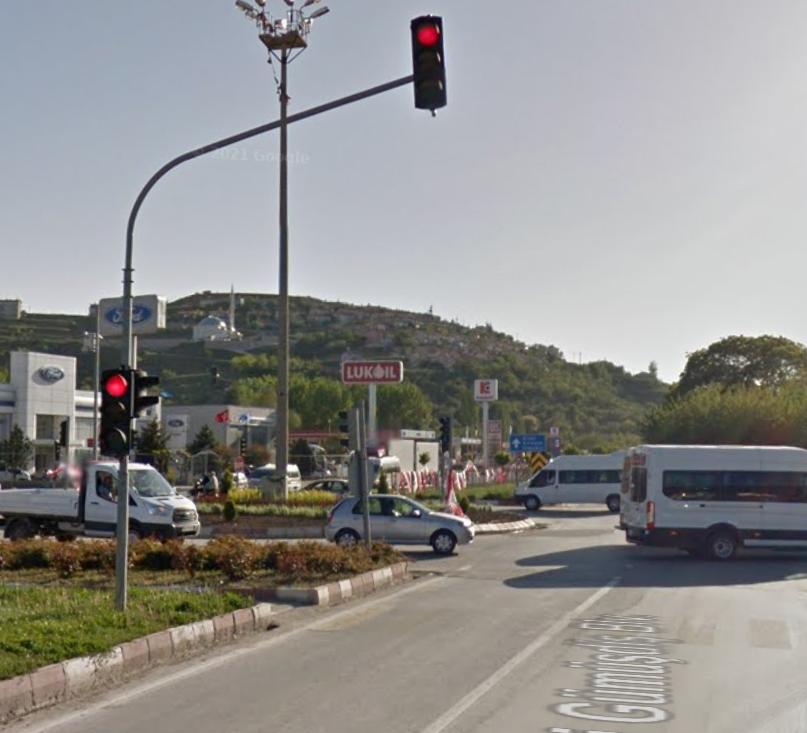redlight: (412, 18, 448, 105), (101, 366, 130, 456)
